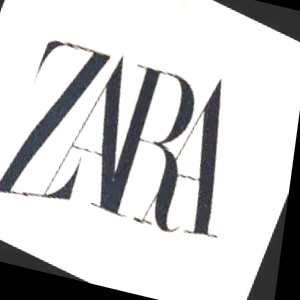zara: (267, 24, 295, 67)
